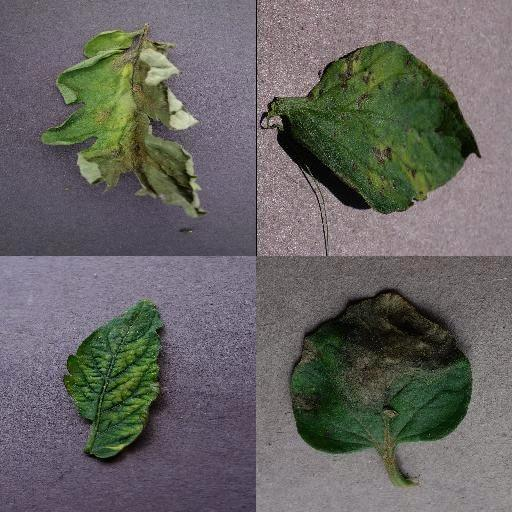Late Blight: (41, 27, 207, 221), (289, 285, 473, 457)
Mosaic Virus: (64, 299, 166, 459)
Septoria: (291, 44, 481, 214)
